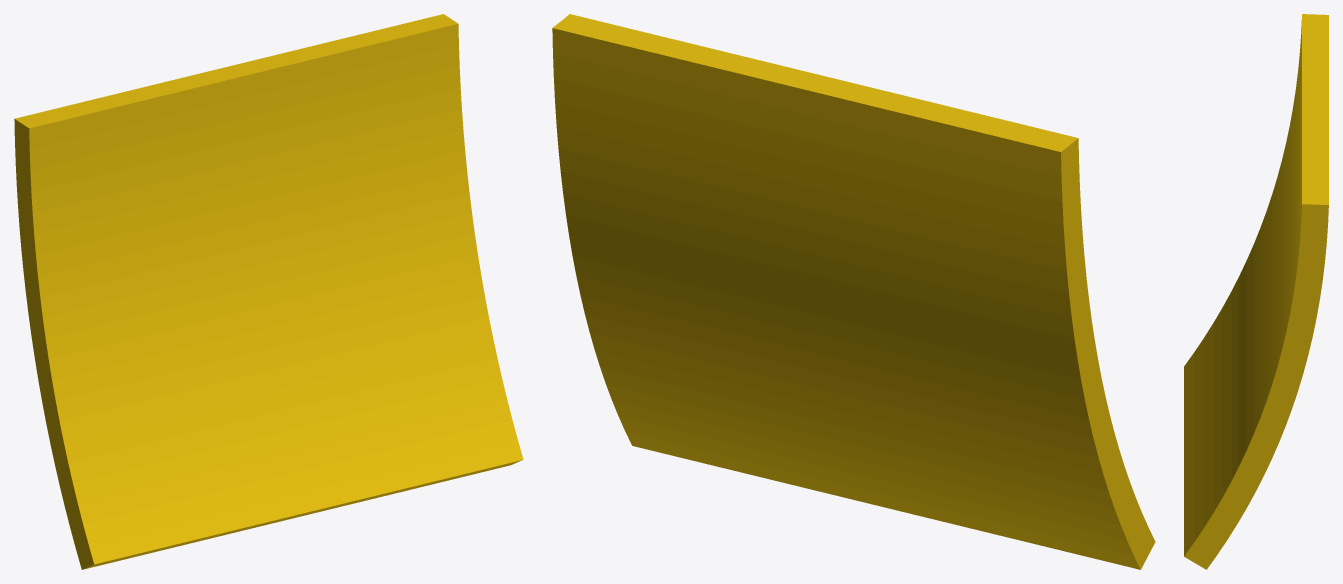
The model's file is Postit.glb.
3 views of the same model, side by side, from view 1: azimuth 30°, elevation 25°; view 2: azimuth 150°, elevation 25°; view 3: azimuth 270°, elevation 25° (orthographic). The views are drawn at different scales.
Visible parts, largest first — view 1: Postit Base; view 2: Postit Base; view 3: Postit Base.
Part boxes in pixels (x1,y1,x2,y2): Postit Base: (14, 14, 523, 569); Postit Base: (552, 14, 1155, 569); Postit Base: (1184, 14, 1328, 569).
Bounding box in the file's own units: 0.1004 × 0.09 × 0.0323.
